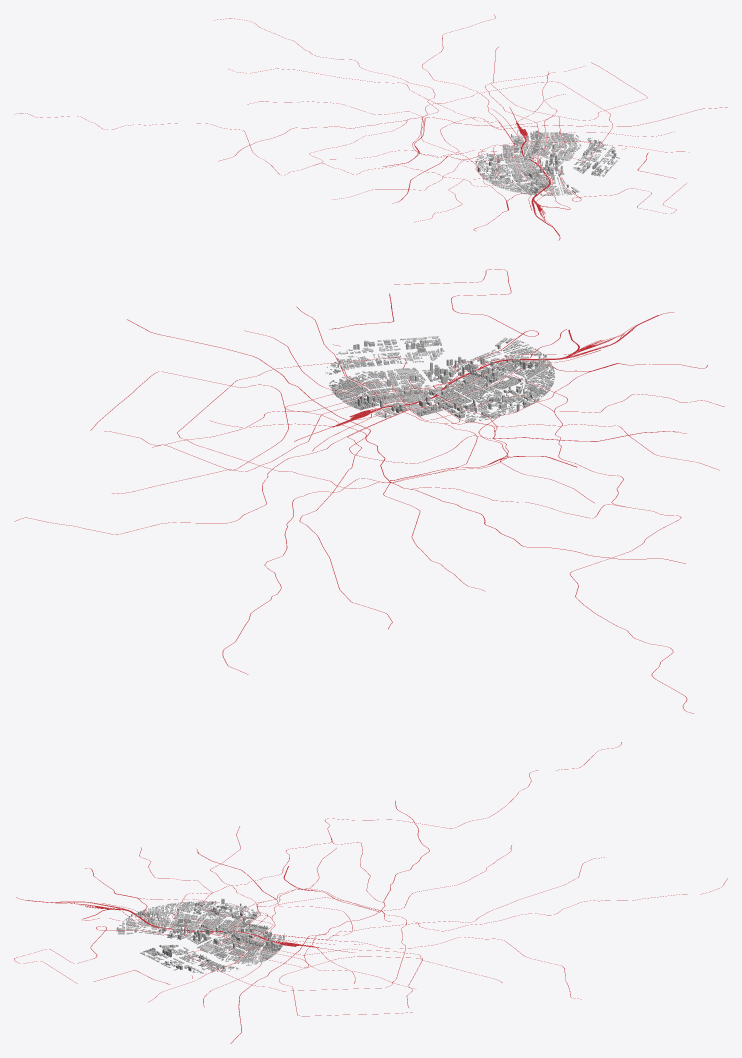
Rendered from city_buildings.fbx.
3 renders of one model, top to bottom at view 1: azimuth 30°, elevation 25°; view 2: azimuth 150°, elevation 25°; view 3: azimuth 270°, elevation 25°, orthographic. The views are drawn at different scales.
Parts seen in each view (by area): view 1: map_6.osm_buildings; view 2: map_6.osm_buildings; view 3: map_6.osm_buildings.
Part boxes in pixels (box(x1,y1,x2,y2)): map_6.osm_buildings: box(14, 15, 727, 240); map_6.osm_buildings: box(14, 269, 724, 713); map_6.osm_buildings: box(14, 742, 727, 1043).
Bounding box in the file's own units: 33389 × 446 × 33380.
